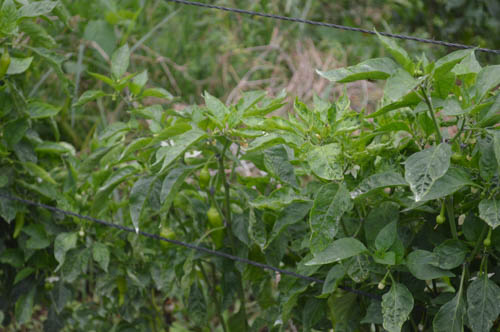ChiliPepper: (206, 210, 223, 242), (157, 231, 175, 247)
